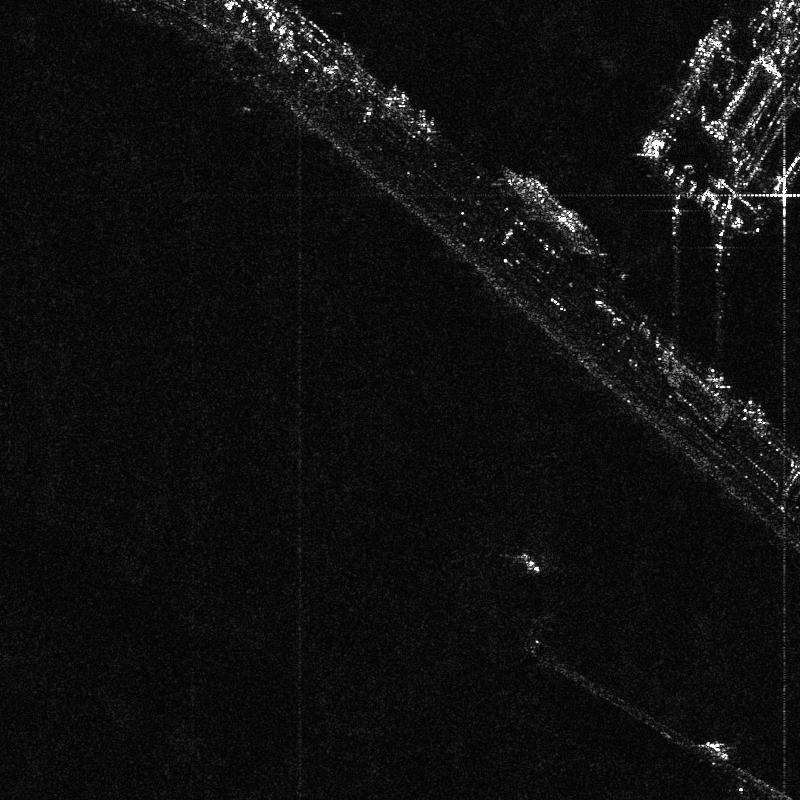ship: (663, 167, 743, 228), (525, 177, 585, 232), (689, 20, 732, 73), (669, 75, 700, 119), (500, 165, 534, 203), (704, 741, 727, 759), (521, 555, 541, 573)
